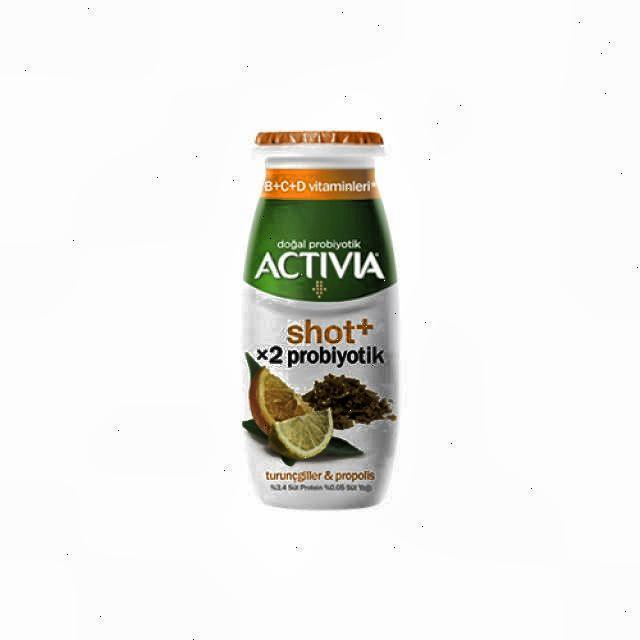plastic: (240, 127, 402, 514)
